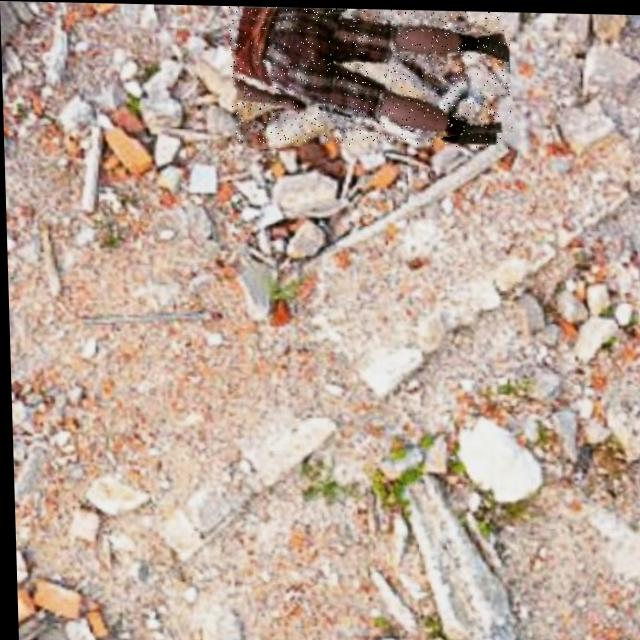Person in Rubble: (229, 4, 512, 145)
